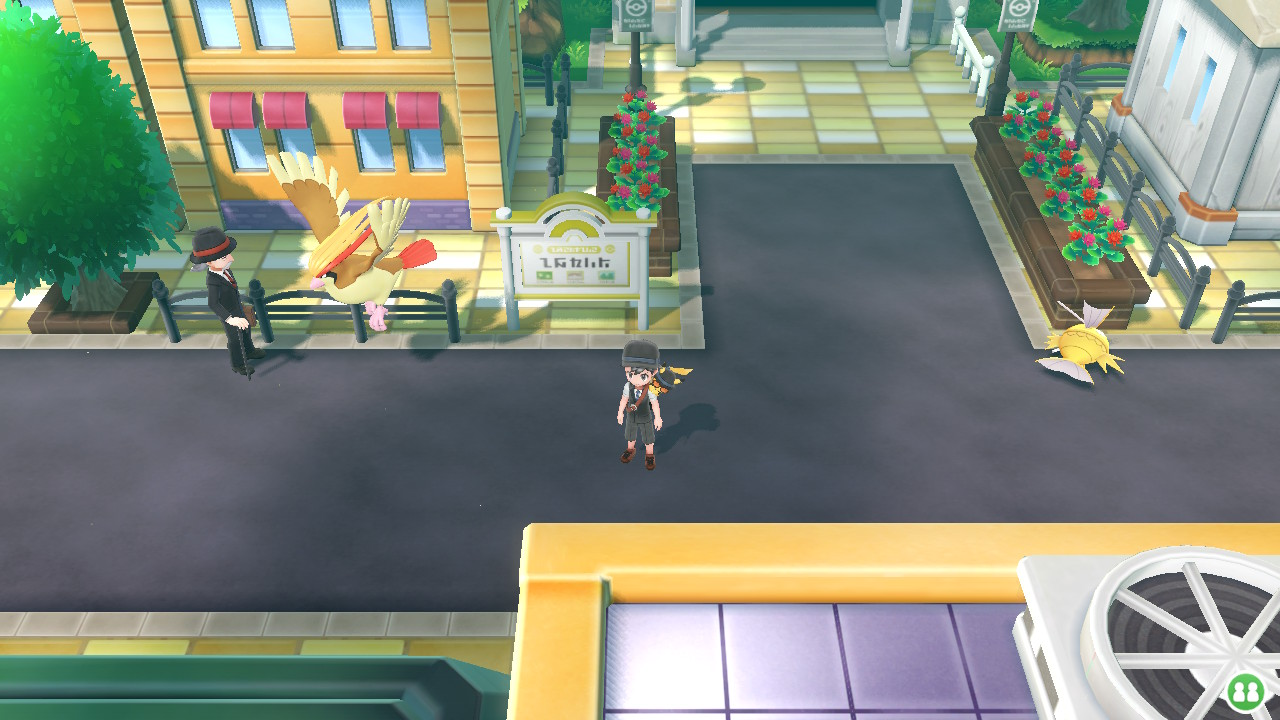Golden: (1038, 299, 1123, 383)
